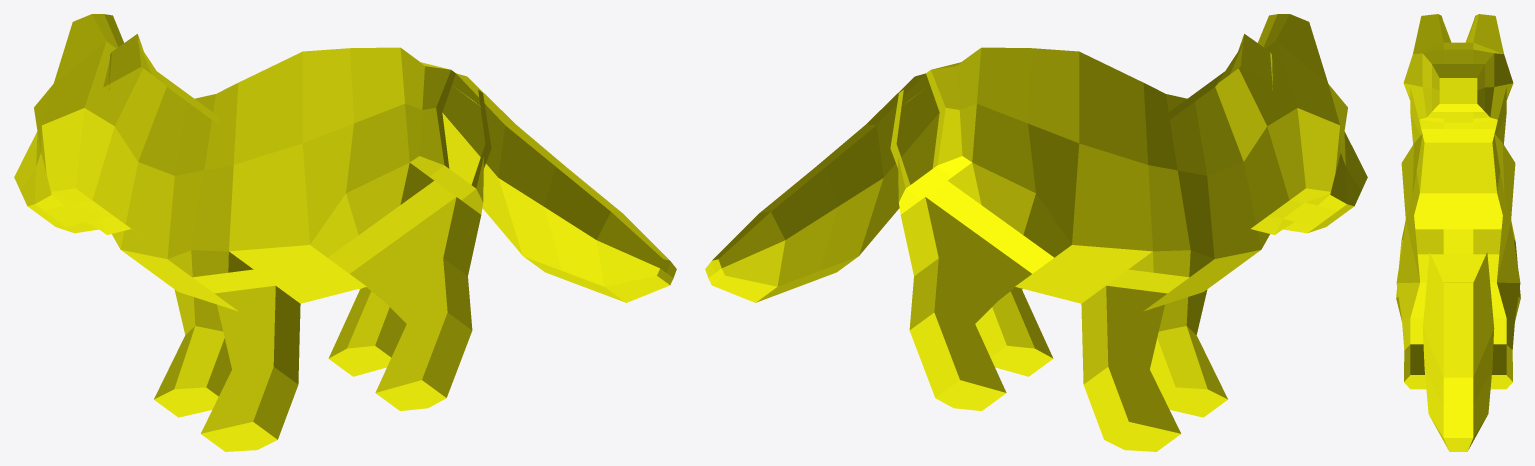
File: fox.glb
3 views of the same model, side by side, from view 1: azimuth 30°, elevation 25°; view 2: azimuth 150°, elevation 25°; view 3: azimuth 270°, elevation 25° (orthographic). The views are drawn at different scales.
Visible parts, largest first — view 1: Plane; view 2: Plane; view 3: Plane.
Part boxes in pixels (x1,y1,x2,y2): Plane: (14,14,676,451); Plane: (705,14,1367,451); Plane: (1396,14,1520,451).
Size of the model in its own units: 0.8604 by 0.5363 by 0.2161.
Materials: 1 (1 with a texture image).
